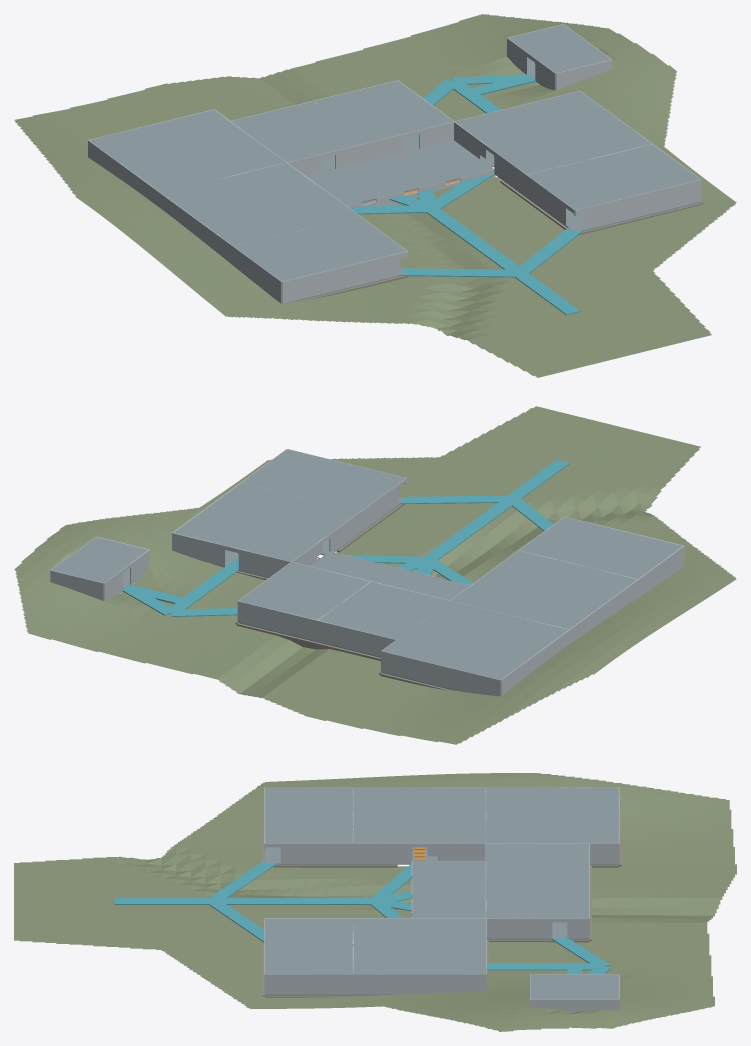
File: guarded-stairs.glb
The picture shows the model from 3 angles, top to bottom: view 1: azimuth 30°, elevation 25°; view 2: azimuth 150°, elevation 25°; view 3: azimuth 270°, elevation 25°; orthographic projection. The views are drawn at different scales.
Visible parts, largest first — view 1: Saved editor circulation terrain WLD-08, Ceiling cap lab, Ceiling cap dorm, Ceiling cap generator, Ceiling cap store, Ceiling cap mess, Ceiling cap radio, Ceiling cap records, Flat route shell Wall store S, Flat route shell Wall mess S, Ceiling cap shelter, Restored ceiling-cap tunnel 6 region1 (+19 smaller); view 2: Saved editor circulation terrain WLD-08, Ceiling cap generator, Ceiling cap dorm, Ceiling cap lab, Ceiling cap mess, Ceiling cap store, Ceiling cap records, Ceiling cap radio, Wall generator N, Ceiling cap shelter, Wall records N, Restored ceiling-cap tunnel 6 region1 (+13 smaller); view 3: Saved editor circulation terrain WLD-08, Ceiling cap lab, Ceiling cap generator, Ceiling cap dorm, Ceiling cap store, Ceiling cap mess, Ceiling cap radio, Ceiling cap records, Wall dorm E, Ceiling cap shelter, Wall mess E, Wall store E (+17 smaller).
Part boxes in pixels (x1,y1,x2,y2): Saved editor circulation terrain WLD-08: (14,14,736,377); Ceiling cap lab: (161,162,358,246); Ceiling cap dorm: (454,91,651,174); Ceiling cap generator: (89,109,285,192); Ceiling cap store: (234,216,407,281); Ceiling cap mess: (527,144,700,210); Ceiling cap radio: (231,101,370,162); Ceiling cap records: (315,80,453,141); Flat route shell Wall store S: (282,251,407,303); Flat route shell Wall mess S: (575,179,701,230); Ceiling cap shelter: (508,24,610,73); Restored ceiling-cap tunnel 6 region1: (337,164,493,205); Saved editor circulation terrain WLD-08: (14,406,736,744); Ceiling cap generator: (382,601,568,679); Ceiling cap dorm: (173,483,359,561); Ceiling cap lab: (450,550,636,629); Ceiling cap mess: (242,449,405,511); Ceiling cap store: (519,517,682,578); Ceiling cap records: (238,562,369,619); Ceiling cap radio: (318,581,449,639); Wall generator N: (381,651,500,696); Ceiling cap shelter: (51,537,148,583); Wall records N: (237,601,317,641); Restored ceiling-cap tunnel 6 region1: (323,551,469,591); Saved editor circulation terrain WLD-08: (14,773,736,1031); Ceiling cap lab: (353,787,485,843); Ceiling cap generator: (486,787,618,843); Ceiling cap dorm: (353,918,485,974); Ceiling cap store: (265,787,353,843); Ceiling cap mess: (265,918,353,974); Ceiling cap radio: (486,843,589,880); Ceiling cap records: (486,881,589,918); Wall dorm E: (353,974,485,994); Ceiling cap shelter: (530,974,618,999); Wall mess E: (265,974,353,994); Wall store E: (280,843,353,863).
Size of the model in its own units: 83 by 5.66 by 98.
Materials: 34 (19 with a texture image).
